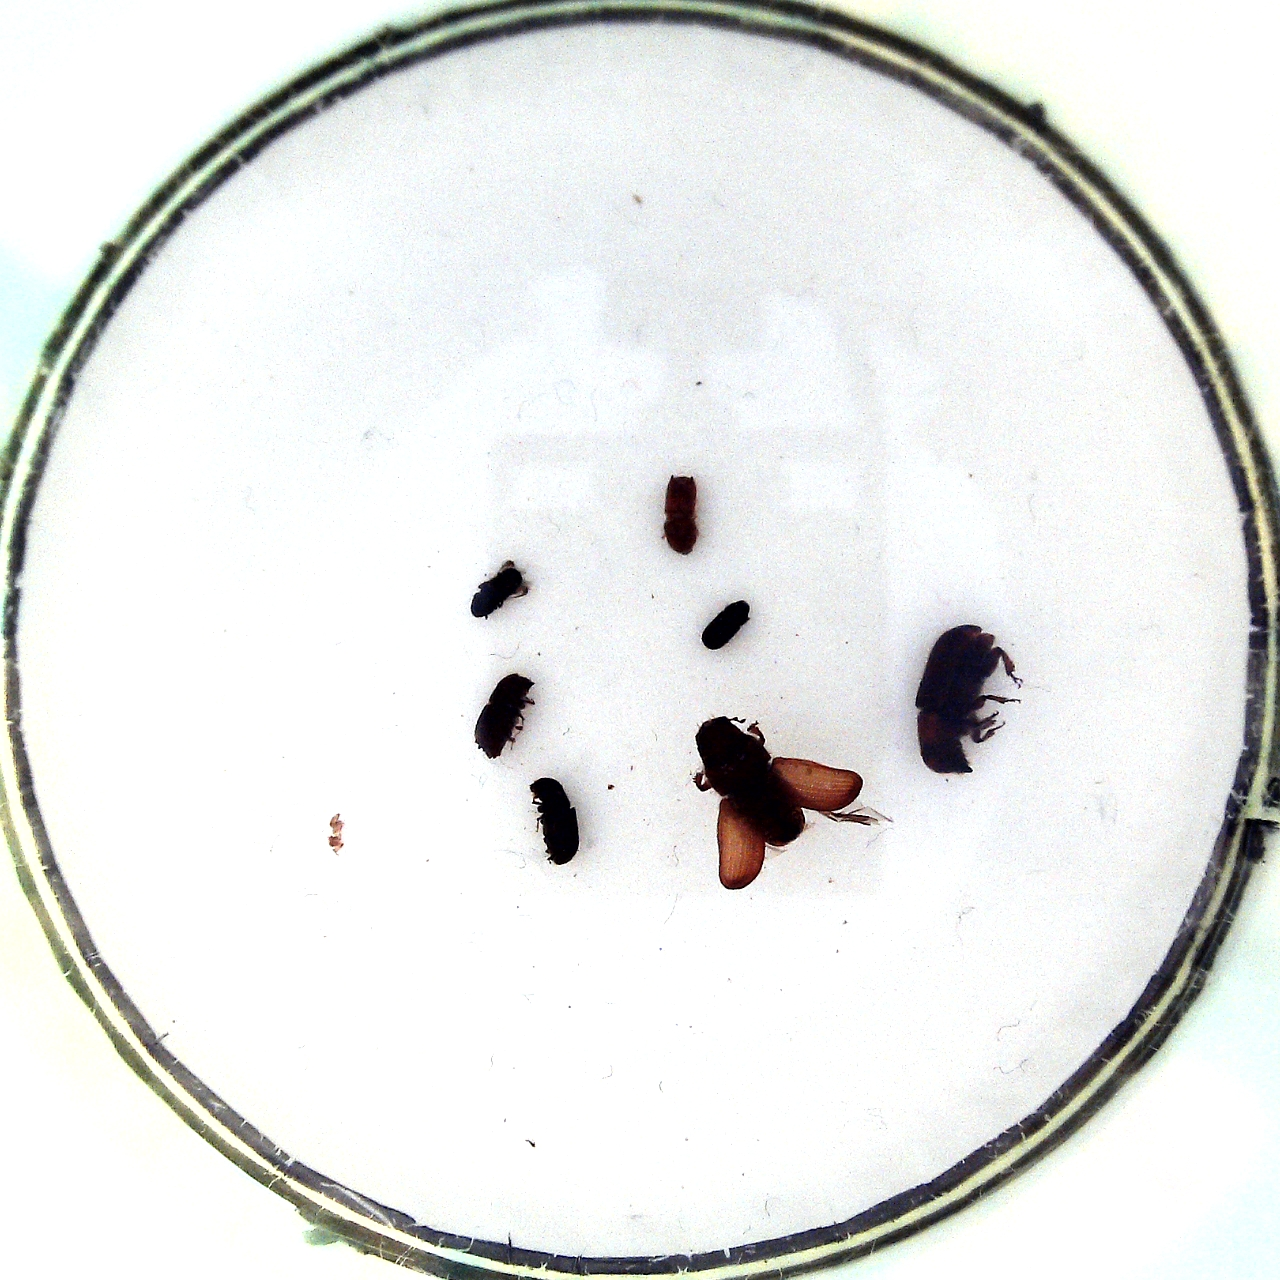Leconte: (688, 712, 874, 890), (911, 621, 1024, 783)
Linnaeus: (470, 663, 542, 760)
acuminatus: (662, 472, 703, 558)
armandi: (526, 772, 583, 870)
coleoptera: (465, 554, 531, 626), (695, 595, 756, 652)
